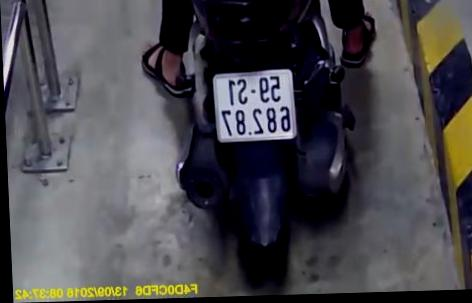License_Plate: (202, 61, 304, 152)
